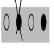correct: (40, 11, 48, 37)
no answer: (27, 11, 36, 34), (3, 12, 10, 35)
not correct: (14, 0, 24, 43)
